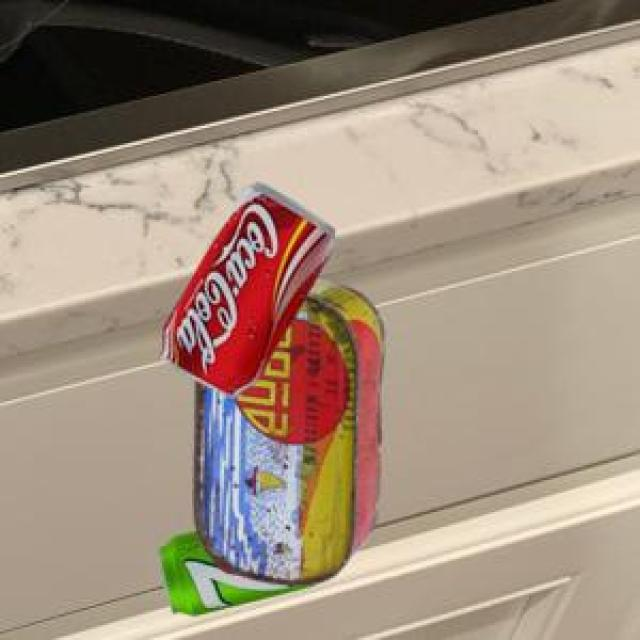logam: (191, 276, 381, 581), (159, 180, 332, 394), (157, 528, 310, 613)
